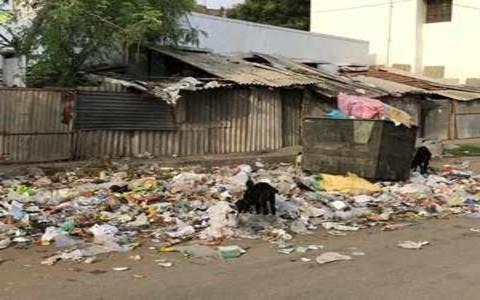overflowing garbage: (291, 110, 414, 222)
